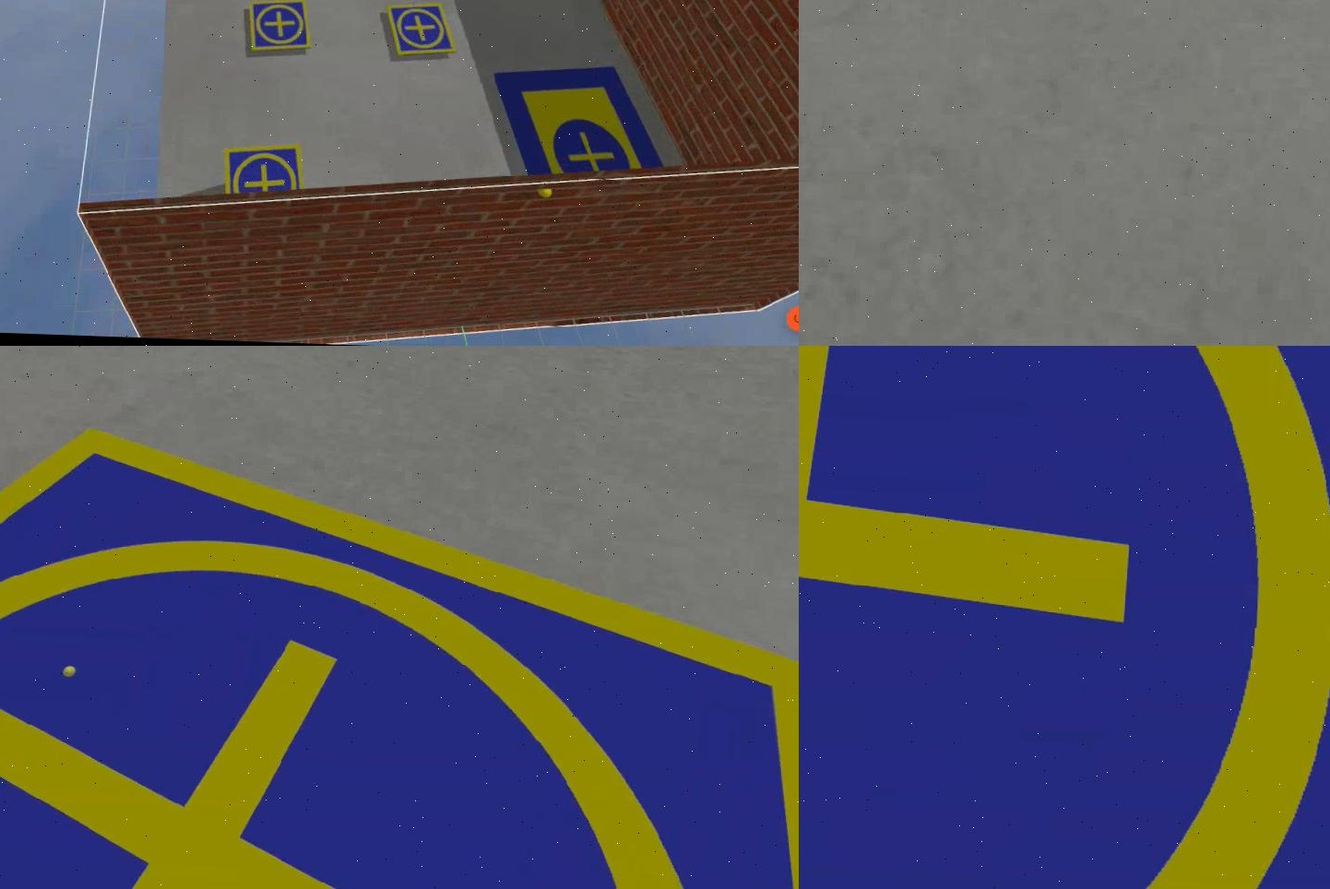large_base: (487, 63, 663, 182)
small_base: (0, 408, 797, 889), (797, 347, 1328, 889), (219, 141, 303, 201), (383, 2, 455, 58), (244, 1, 314, 55)
